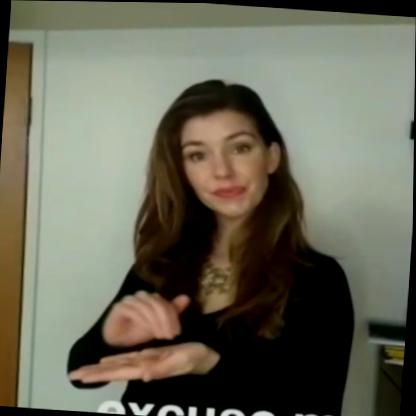ExcuseMe: (56, 275, 218, 390)
